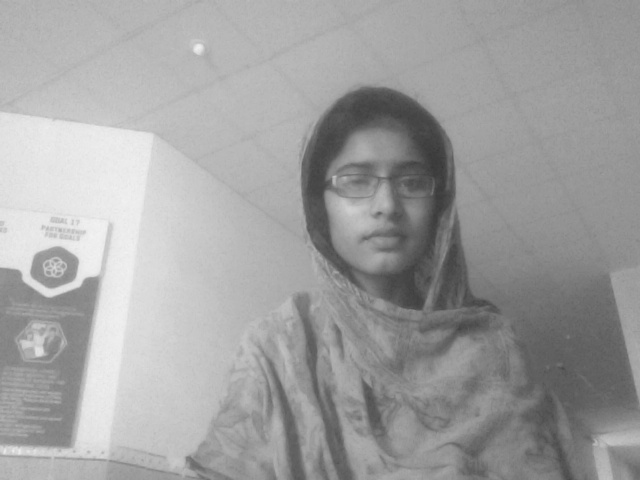Face: (138, 1, 514, 348)
